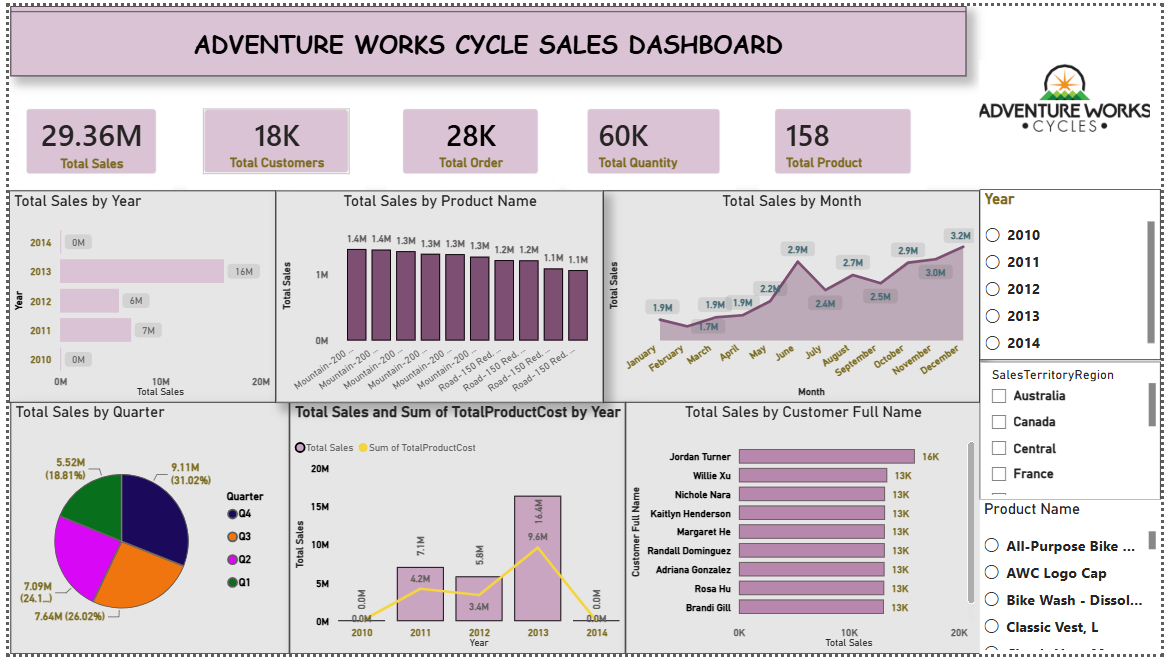

The dashboard page shown, as its layout file describes it:
{"tool":"powerbi","page":{"name":"Page 1","canvas":[1280,720],"ordinal":0},"visuals":[{"type":"clusteredBarChart","fields":{"Y":["UNION SALES.Total Sales"],"Category":["UNION SALES.OrderDate.Variation.Date Hierarchy.Year"]},"box":[0,204.5,296.4,236],"z":0},{"type":"lineChart","fields":{"Y":["UNION SALES.Total Sales"],"Category":["UNION SALES.OrderDate.Variation.Date Hierarchy.Month"]},"box":[660,204.5,418.5,236],"z":1},{"type":"pieChart","fields":{"Y":["UNION SALES.Total Sales"],"Category":["UNION SALES.Quarter"]},"box":[1.2,440.4,309.7,279.9],"z":2},{"type":"lineClusteredColumnComboChart","fields":{"Y":["UNION SALES.Total Sales"],"Category":["UNION SALES.OrderDate.Variation.Date Hierarchy.Year"],"Y2":["Sum(UNION SALES.TotalProductCost)"]},"box":[311,440.4,373.2,279.9],"z":3},{"type":"columnChart","fields":{"Category":["UNION SALES.Product Name"],"Y":["UNION SALES.Total Sales"]},"box":[296.4,204.5,363.6,236],"z":4},{"type":"barChart","fields":{"Y":["UNION SALES.Total Sales"],"Category":["Dimcustomer.Customer Full Name"]},"box":[684.2,440.4,394.3,279.9],"z":5},{"type":"cardVisual","fields":{"Data":["UNION SALES.Total Customers"]},"box":[197.6,97.4,197.6,107],"z":9},{"type":"cardVisual","fields":{"Data":["UNION SALES.Total Order"]},"box":[419.9,97.4,185.2,107],"z":10},{"type":"cardVisual","fields":{"Data":["UNION SALES.Total Quantity"]},"box":[625.7,97.4,182.5,107],"z":11},{"type":"cardVisual","fields":{"Data":["UNION SALES.Total Product"]},"box":[832.9,97.4,186.6,107],"z":12},{"type":"slicer","fields":{"Values":["DimSalesTerritory.SalesTerritoryRegion"]},"box":[1078.5,394.3,201.5,154.3],"z":13},{"type":"cardVisual","fields":{"Data":["UNION SALES.Total Sales"]},"box":[1.4,97.4,179.8,107],"z":14},{"type":"textbox","box":[1.4,0,1062.1,78.2],"z":15},{"type":"listSlicer","fields":{"Values":["UNION SALES.OrderDate.Variation.Date Hierarchy.Year"]},"box":[1078.5,204,201.5,190.3],"z":16},{"type":"image","box":[1078.6,11,189.4,193.5],"z":17},{"type":"listSlicer","fields":{"Values":["UNION SALES.Product Name"]},"box":[1079,548,201,172],"z":18}]}

Visuals, with their boxes in screenshot pixels (x1, y1, x2, y2), scaled from the page's 1280x720 canvas onto the 1175x664 screenshot:
clusteredBarChart - UNION SALES.Total Sales x UNION SALES.OrderDate.Variation.Date Hierarchy.Year: box=[0, 189, 272, 406]
lineChart - UNION SALES.Total Sales x UNION SALES.OrderDate.Variation.Date Hierarchy.Month: box=[606, 189, 990, 406]
pieChart - UNION SALES.Total Sales x UNION SALES.Quarter: box=[1, 406, 285, 663]
lineClusteredColumnComboChart - UNION SALES.Total Sales x UNION SALES.OrderDate.Variation.Date Hierarchy.Year: box=[285, 406, 628, 663]
columnChart - UNION SALES.Product Name x UNION SALES.Total Sales: box=[272, 189, 606, 406]
barChart - UNION SALES.Total Sales x Dimcustomer.Customer Full Name: box=[628, 406, 990, 663]
cardVisual - UNION SALES.Total Customers: box=[181, 90, 363, 189]
cardVisual - UNION SALES.Total Order: box=[385, 90, 555, 189]
cardVisual - UNION SALES.Total Quantity: box=[574, 90, 742, 189]
cardVisual - UNION SALES.Total Product: box=[765, 90, 936, 189]
slicer - DimSalesTerritory.SalesTerritoryRegion: box=[990, 364, 1174, 506]
cardVisual - UNION SALES.Total Sales: box=[1, 90, 166, 189]
textbox: box=[1, 0, 976, 72]
listSlicer - UNION SALES.OrderDate.Variation.Date Hierarchy.Year: box=[990, 188, 1174, 364]
image: box=[990, 10, 1164, 189]
listSlicer - UNION SALES.Product Name: box=[990, 505, 1174, 663]
